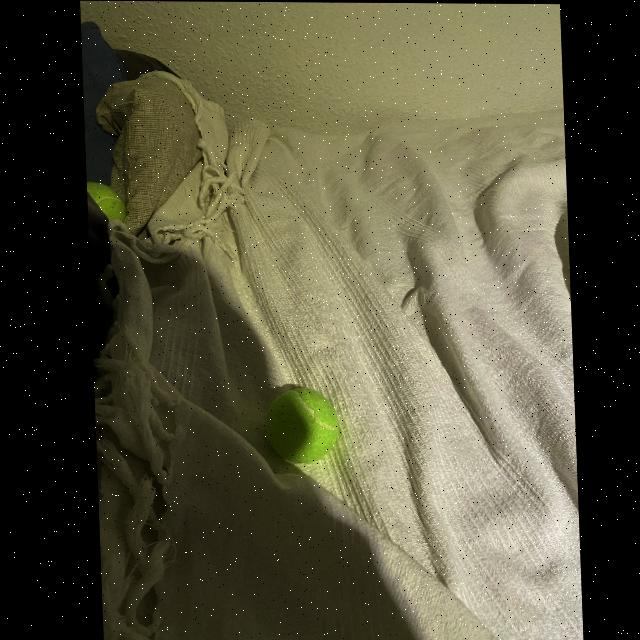Tennisball: (266, 388, 339, 464), (87, 183, 126, 221)
